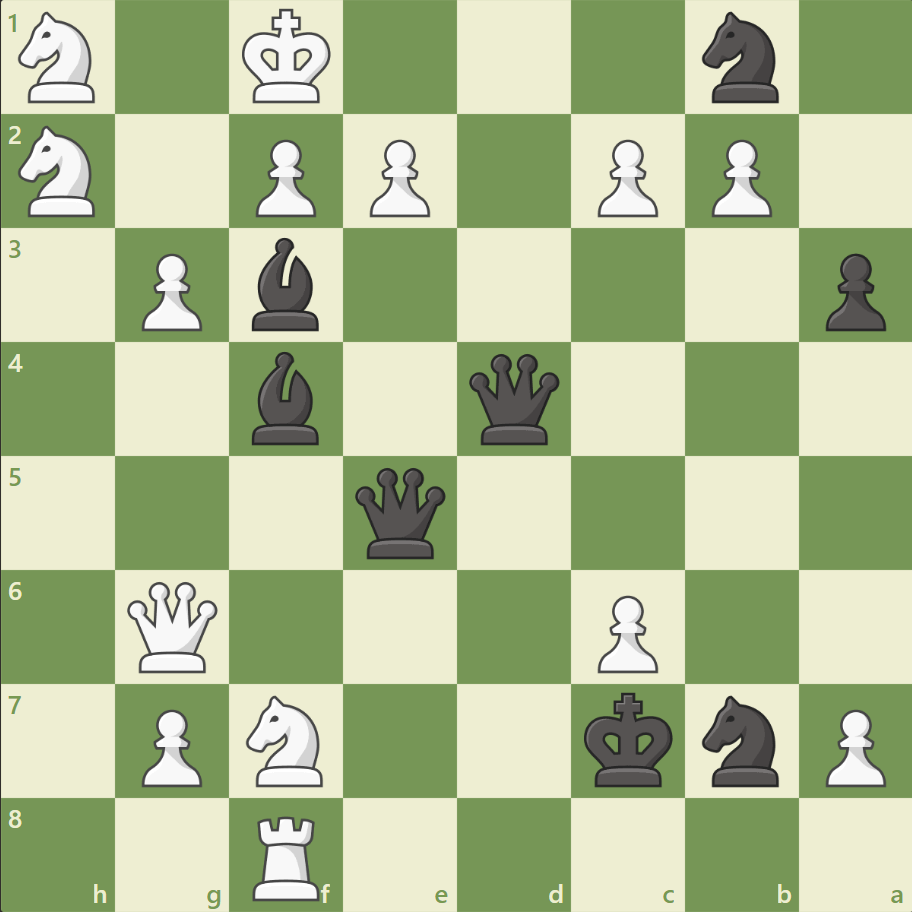K: (238, 4, 338, 112)
N: (238, 688, 335, 791), (11, 7, 108, 110), (11, 121, 108, 223)
P: (133, 700, 208, 791), (133, 246, 208, 337), (701, 132, 776, 223), (247, 132, 322, 223), (815, 700, 889, 791), (588, 586, 662, 677), (588, 132, 662, 223), (361, 132, 435, 223)
Q: (124, 576, 223, 676)
R: (246, 806, 329, 904)
b: (244, 233, 328, 336), (244, 347, 328, 449)
k: (579, 685, 679, 793)
n: (692, 688, 789, 791), (692, 7, 789, 110)
p: (815, 246, 889, 337)
q: (464, 349, 563, 449), (351, 463, 450, 562)
